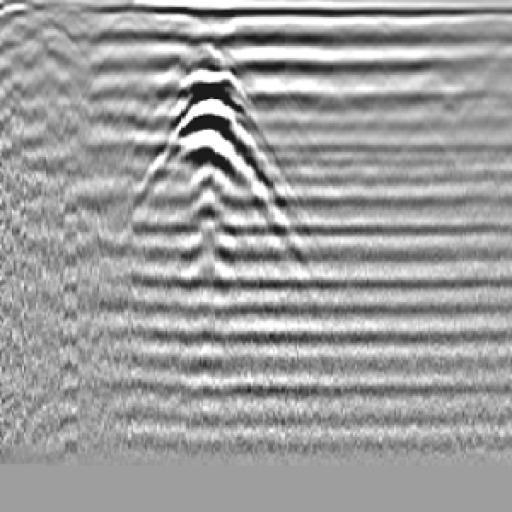metalic: (130, 55, 288, 239)
